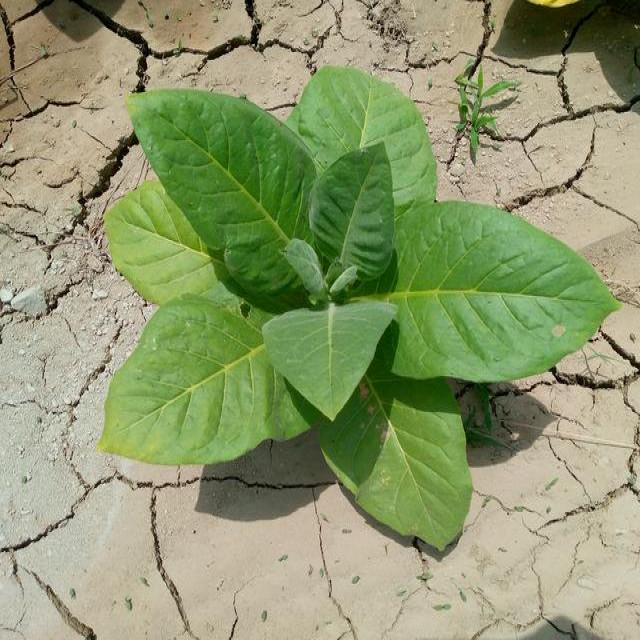crop: (106, 78, 596, 538)
